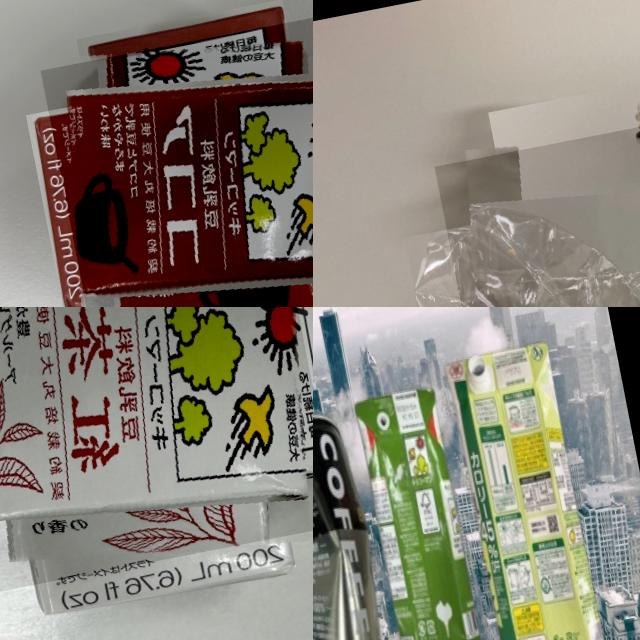Aluminium Foil: (0, 307, 313, 594), (41, 15, 313, 307), (441, 338, 615, 640), (350, 379, 492, 640)
Can: (313, 407, 395, 640)
Transparent Plastic Bottle: (434, 94, 640, 307)
